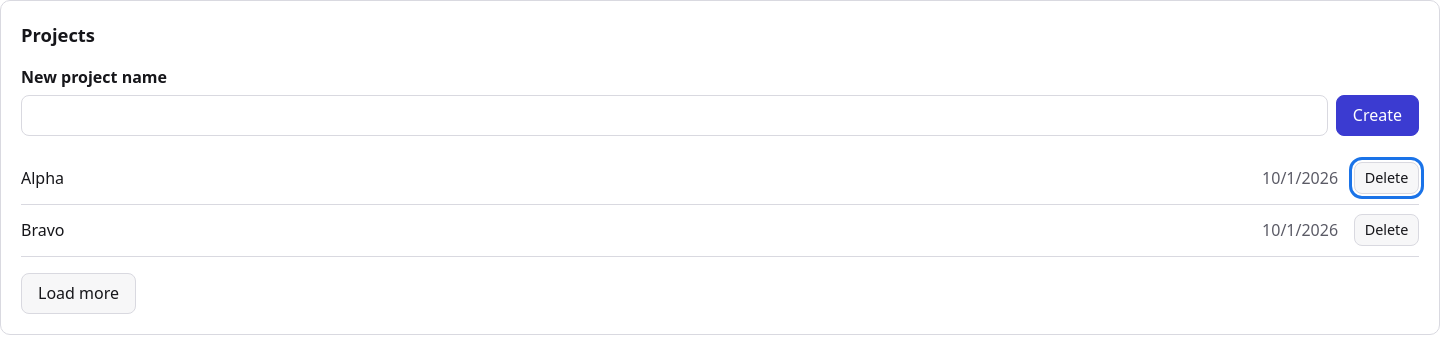
projects panel focus while a request runs (FE-09) › leaves focus where the user moved it while a delete ran
Expected: the text "Alpha" is shown, [21,166,64,188]
Step 1. Press Enter
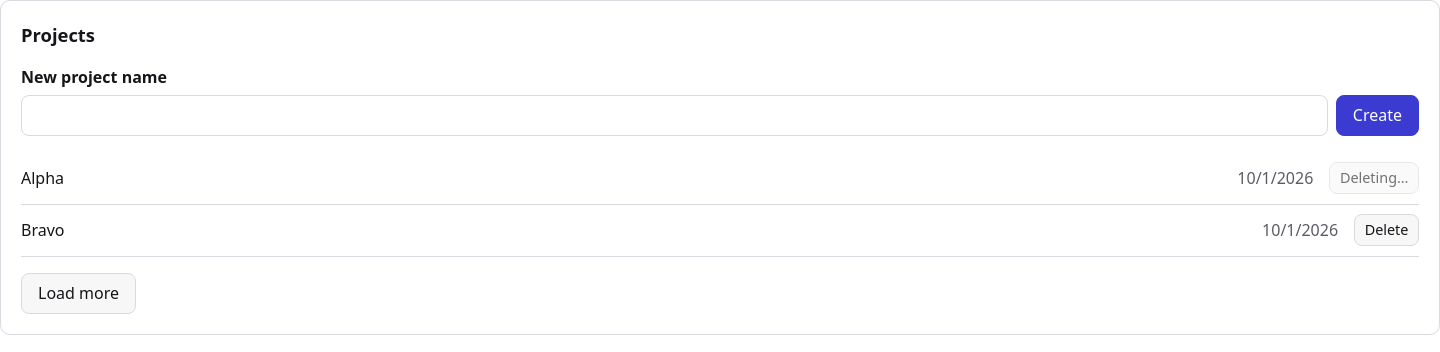
Step 2. Click the field labelled "New project name" → x=674, y=116, box [21,95,1328,136]
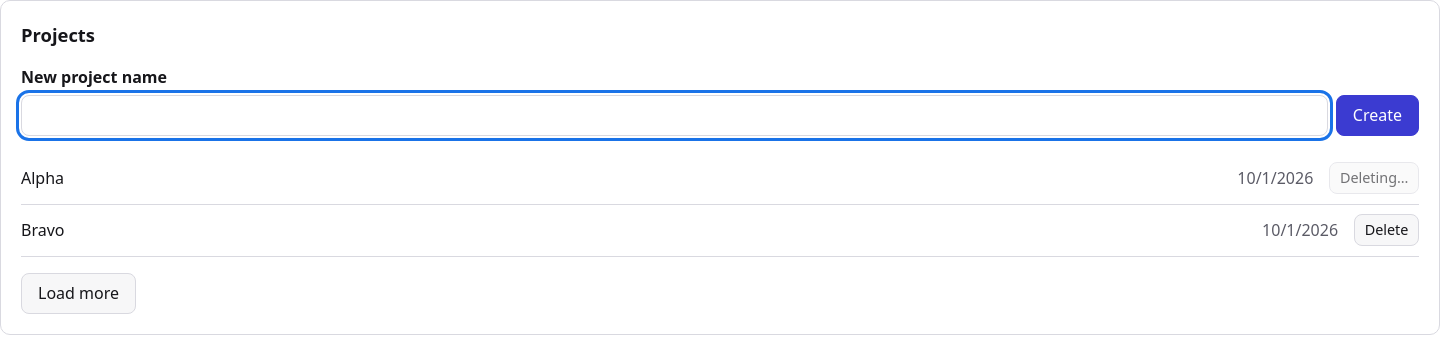
Step 3. Type keys "Next pro"
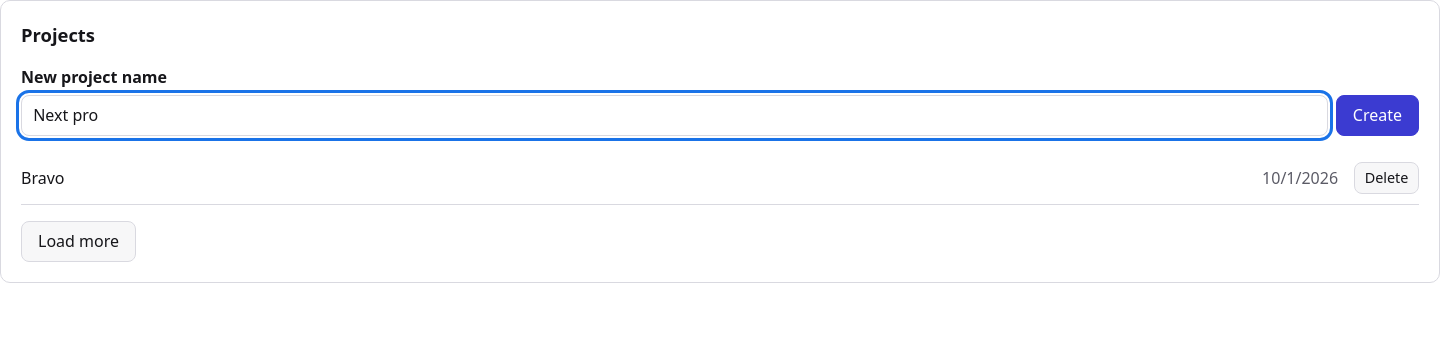
Expected: the field labelled "New project name" holds "Next pro", [21,95,1328,136]
